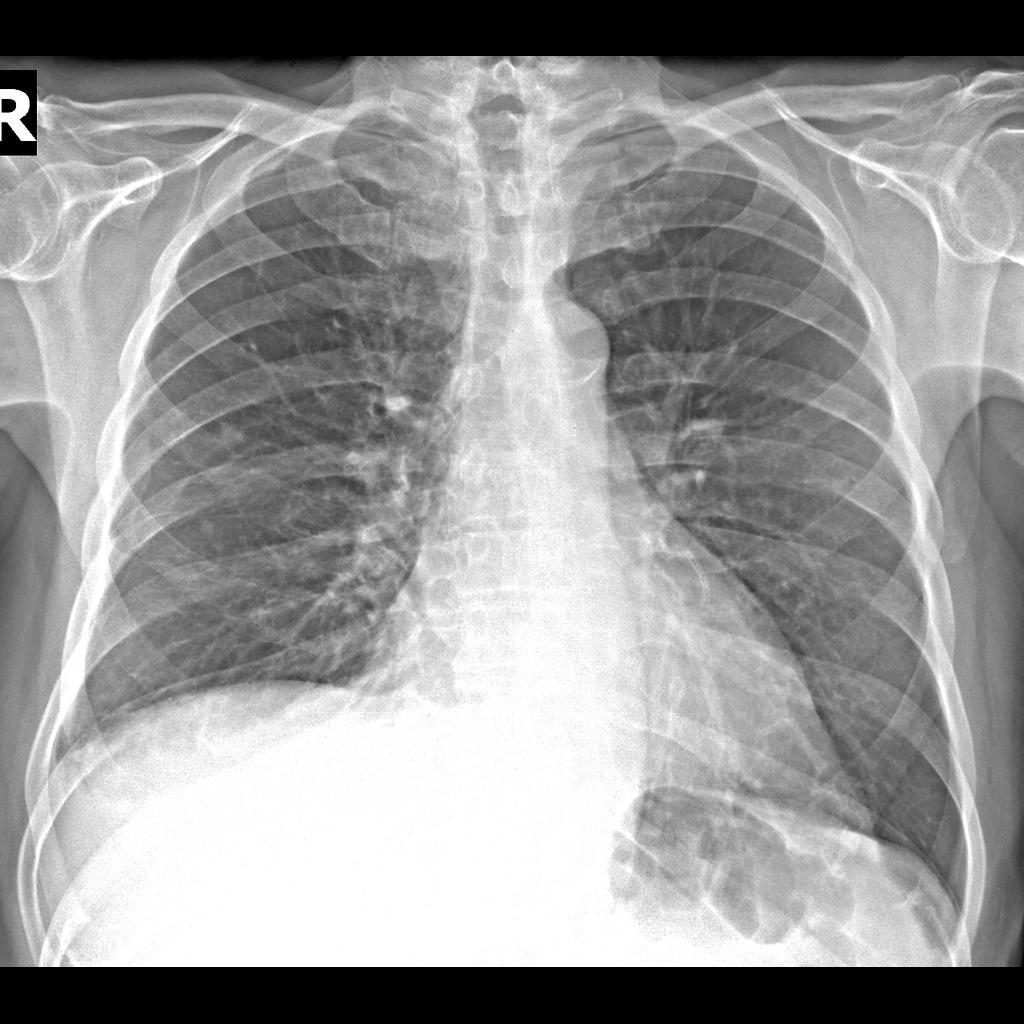Nodule: (209, 413, 253, 455)
